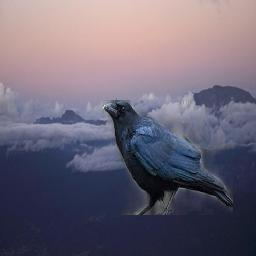Crow: (103, 101, 234, 216)
